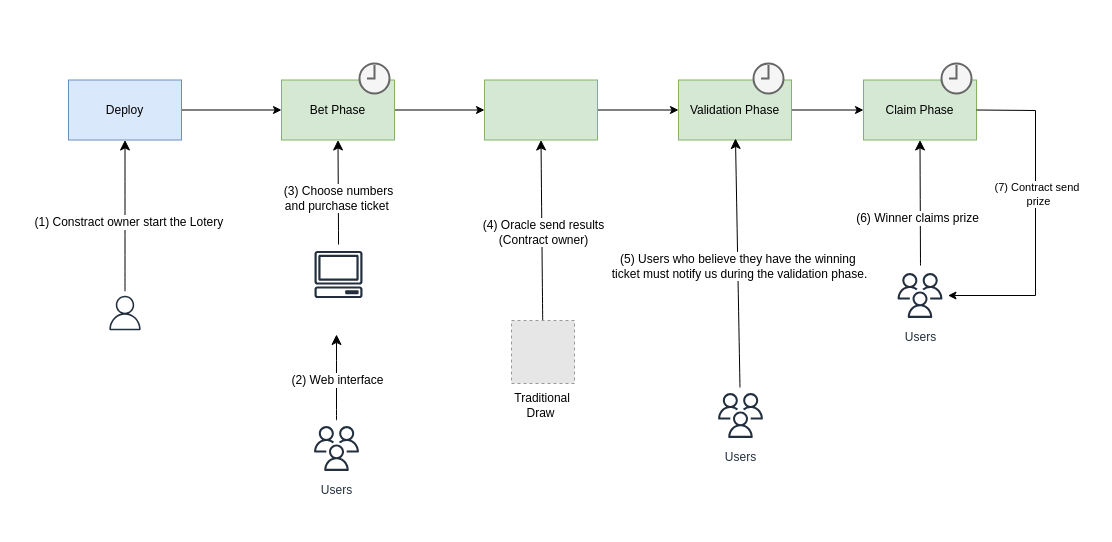
This 1112x542 diagram has some shape labels left out. Grey dashed boxes stand in for pictures. The shapes that lost their labels are listed below. From the top down, each one's centre as x and y in pixels, then its label:
point (541, 109): Draw Phase
point (338, 274): Client
point (124, 312): User
